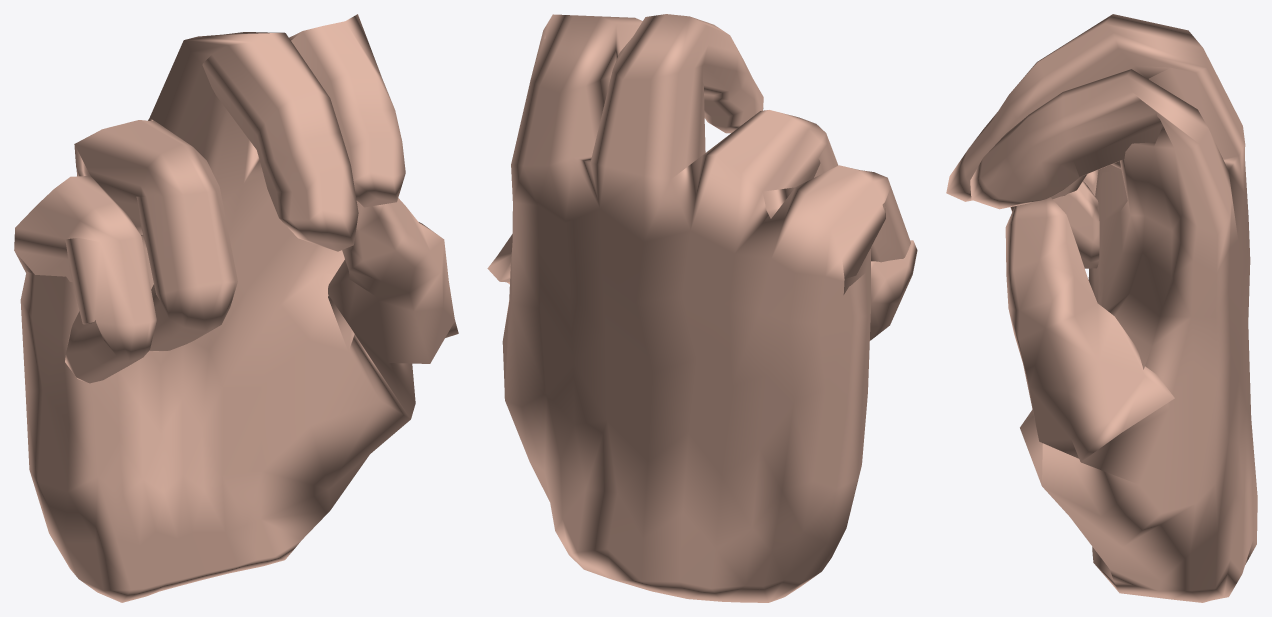
The model's file is _3DEDOS_O.obj.
3 views of the same model, side by side, from view 1: azimuth 30°, elevation 25°; view 2: azimuth 150°, elevation 25°; view 3: azimuth 270°, elevation 25° (orthographic). The views are drawn at different scales.
Parts seen in each view (by area): view 1: mao_dir:mao_dir; view 2: mao_dir:mao_dir; view 3: mao_dir:mao_dir.
Boxes of the visible parts, left/top/right/bottom form: mao_dir:mao_dir: left=14, top=14, right=458, bottom=602; mao_dir:mao_dir: left=487, top=14, right=917, bottom=602; mao_dir:mao_dir: left=946, top=14, right=1257, bottom=602.
Bounding box in the file's own units: 138 × 177 × 90.25.
